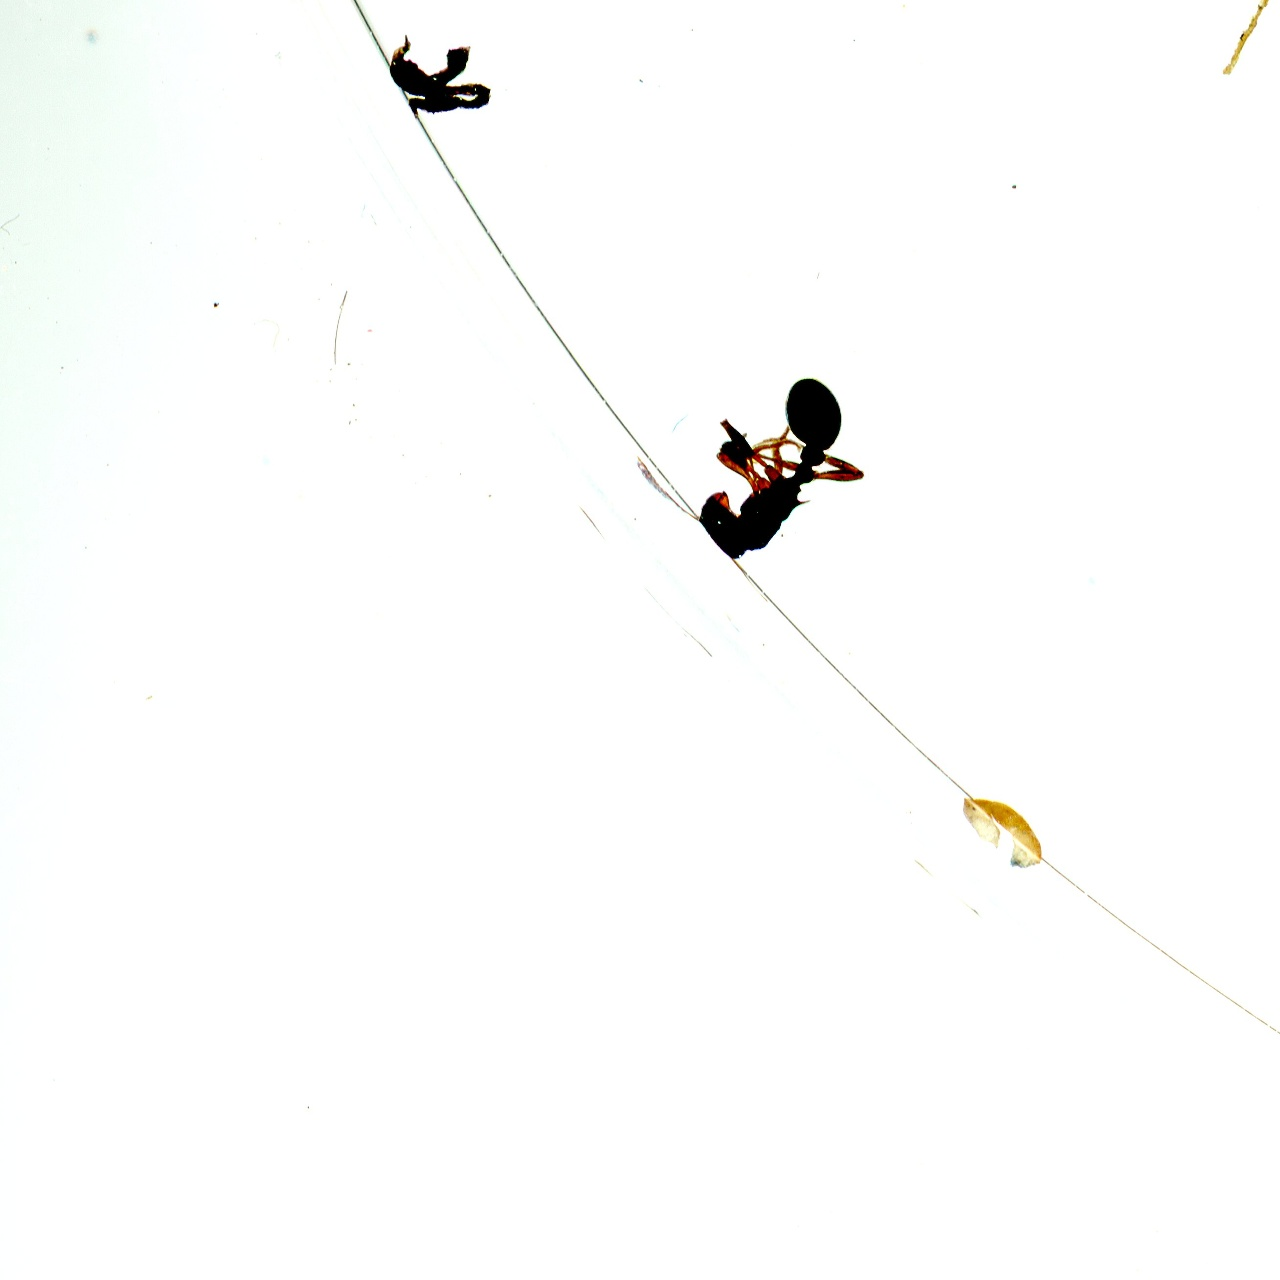arthropod: (614, 308, 905, 600)
